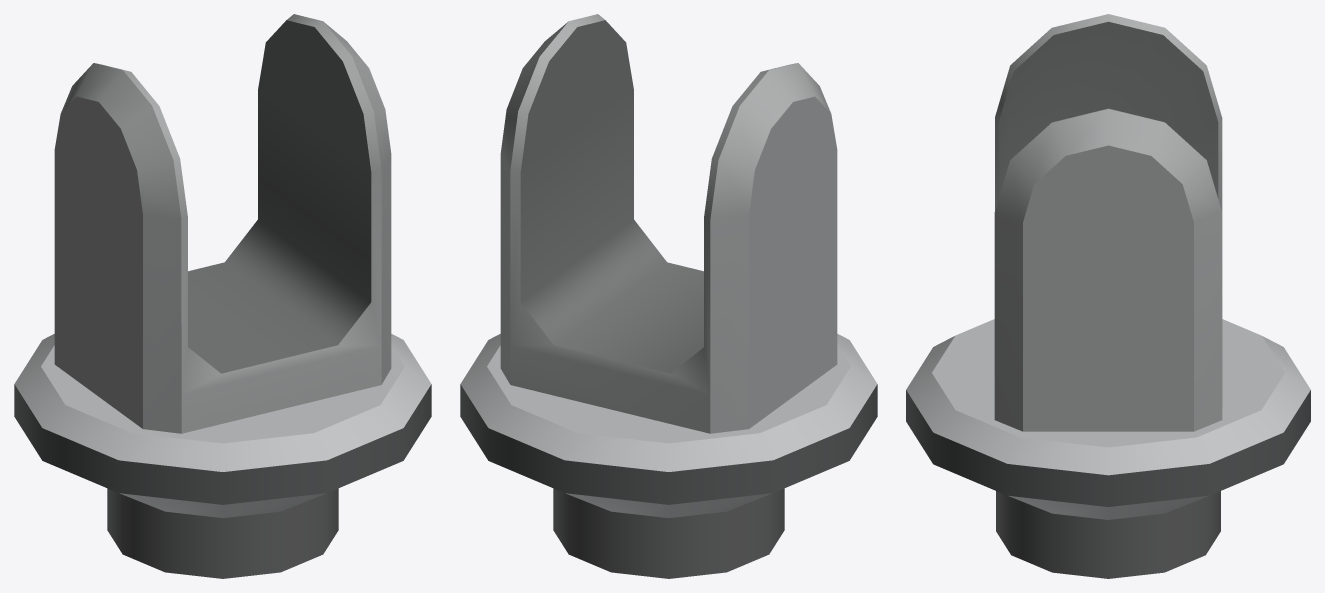
File: Support_003.fbx
The picture shows the model from 3 angles, left to right: view 1: azimuth 30°, elevation 25°; view 2: azimuth 150°, elevation 25°; view 3: azimuth 270°, elevation 25°; orthographic projection. The views are drawn at different scales.
Parts seen in each view (by area): view 1: Support_003; view 2: Support_003; view 3: Support_003.
Part boxes in pixels (x1=…): Support_003: x1=14, y1=14, x2=431, y2=578; Support_003: x1=460, y1=14, x2=877, y2=578; Support_003: x1=906, y1=14, x2=1310, y2=578.
Bounding box in the file's own units: 26.51 × 26.51 × 33.97.
